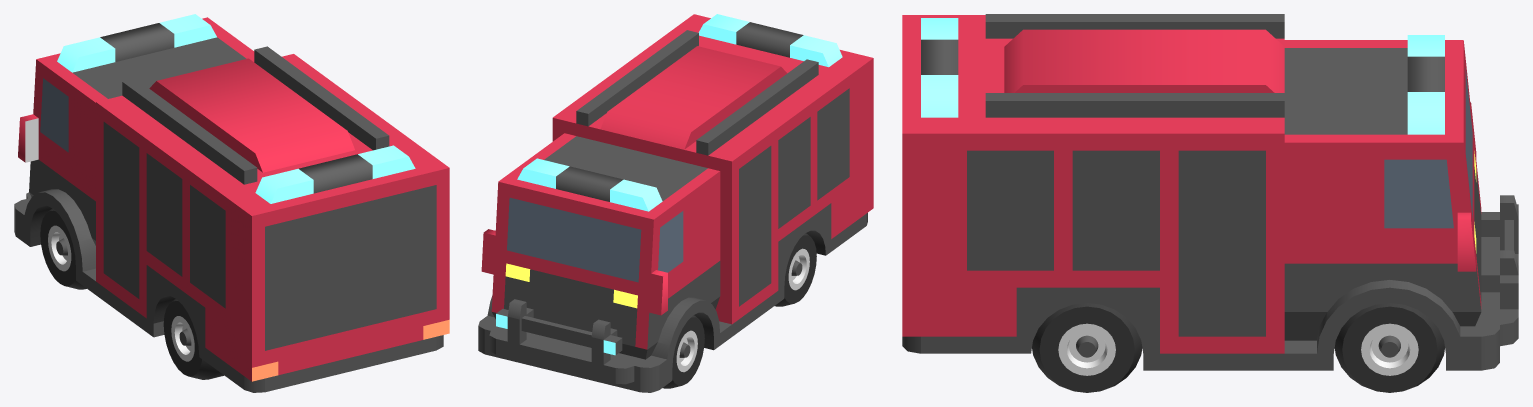
File: firetruck.glb
3 renders of one model, left to right at view 1: azimuth 30°, elevation 25°; view 2: azimuth 150°, elevation 25°; view 3: azimuth 270°, elevation 25°, orthographic. The views are drawn at different scales.
Parts seen in each view (by area): view 1: body, wheel_backLeft, wheel_frontLeft; view 2: body, grill, wheel_backLeft, wheel_frontLeft; view 3: body, wheel_backRight, wheel_frontRight, grill.
Part boxes in pixels (bbox=[...]): body: bbox=[14, 14, 449, 392]; wheel_backLeft: bbox=[163, 298, 223, 379]; wheel_frontLeft: bbox=[40, 208, 86, 289]; body: bbox=[478, 14, 873, 392]; grill: bbox=[489, 299, 634, 384]; wheel_backLeft: bbox=[775, 233, 816, 306]; wheel_frontLeft: bbox=[663, 315, 704, 388]; body: bbox=[902, 14, 1499, 370]; wheel_backRight: bbox=[1032, 303, 1142, 392]; wheel_frontRight: bbox=[1334, 303, 1444, 392]; grill: bbox=[1481, 195, 1518, 346].
Bounding box in the file's own units: 1.5 × 1.7 × 3.3.
